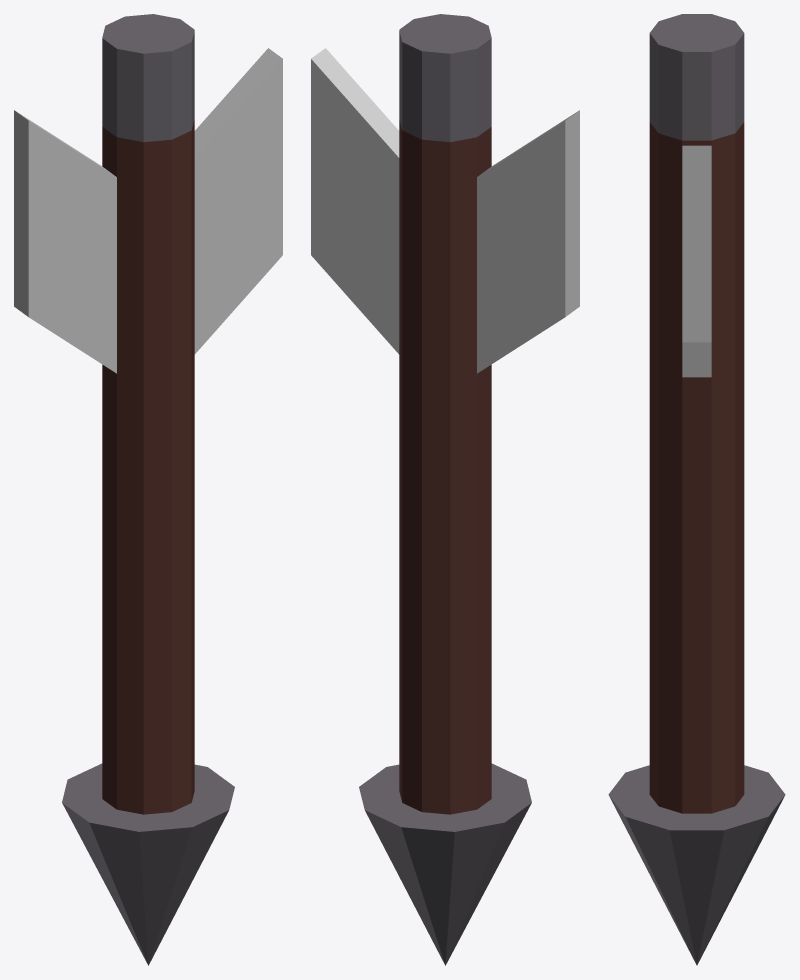
Rendered from arrow.obj.
The picture shows the model from 3 angles, left to right: view 1: azimuth 30°, elevation 25°; view 2: azimuth 150°, elevation 25°; view 3: azimuth 270°, elevation 25°; orthographic projection.
Visible parts, largest first — view 1: Cylinder_Cylinder.003; view 2: Cylinder_Cylinder.003; view 3: Cylinder_Cylinder.003.
Boxes of the visible parts, x1,y1,x2,y2 form: Cylinder_Cylinder.003: [14, 14, 282, 965]; Cylinder_Cylinder.003: [311, 14, 579, 965]; Cylinder_Cylinder.003: [608, 14, 785, 965].
Bounding box in the file's own units: 0.0912 × 0.3195 × 0.055.
